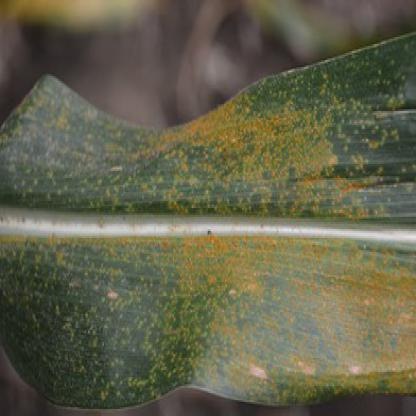corn rust leaf: (2, 56, 415, 409)
